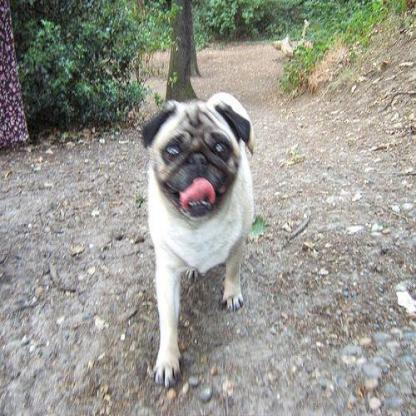pug: (136, 85, 258, 396)
